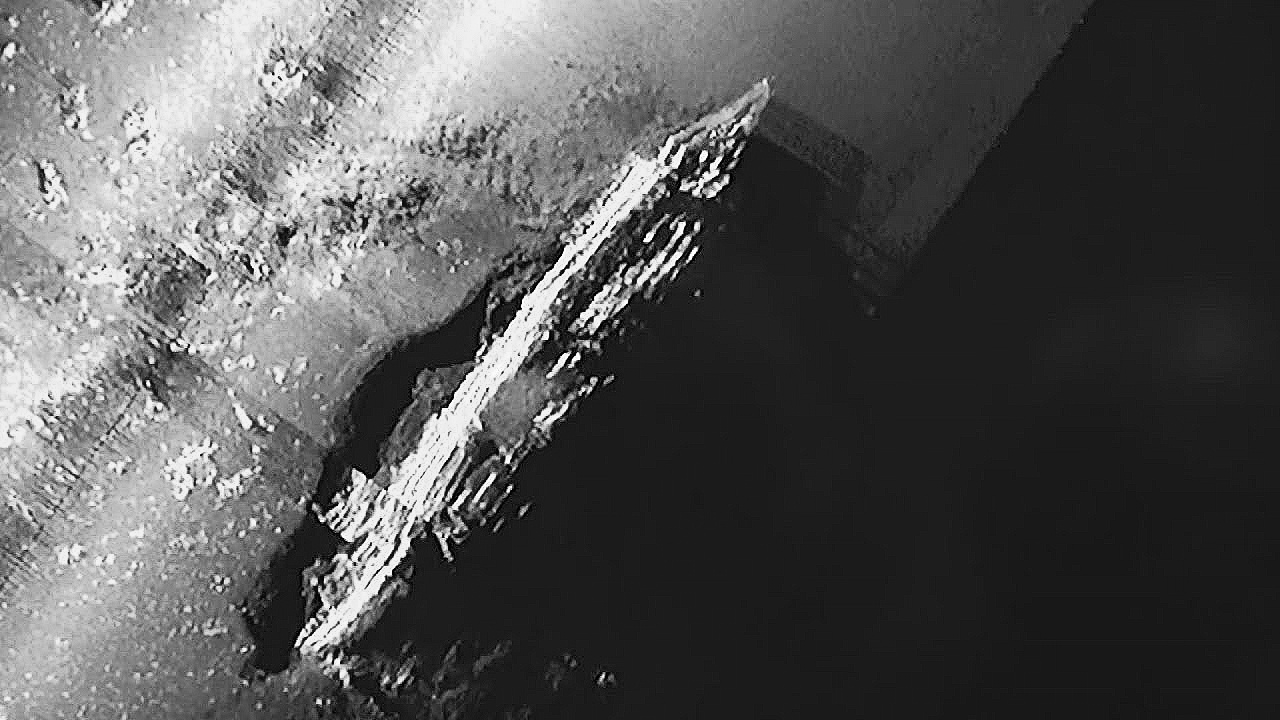ship: (293, 73, 780, 693)
